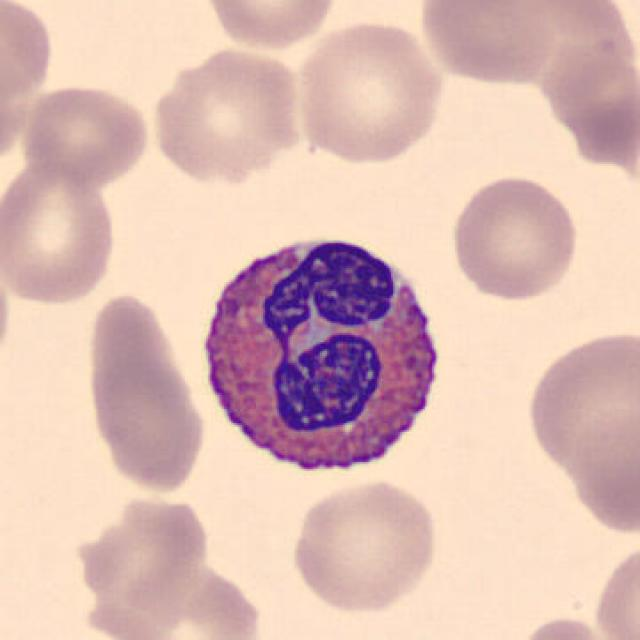Eosinophil: (188, 218, 458, 494)
RBC: (82, 286, 210, 499), (290, 16, 448, 166), (148, 42, 308, 187), (286, 474, 443, 616), (66, 486, 210, 618), (0, 155, 121, 309), (446, 171, 583, 303), (521, 324, 638, 476), (538, 36, 640, 184), (81, 559, 266, 640), (18, 80, 154, 190), (414, 0, 560, 88), (0, 0, 59, 166), (199, 0, 343, 51), (590, 537, 638, 640), (510, 612, 619, 640), (0, 247, 14, 386)
